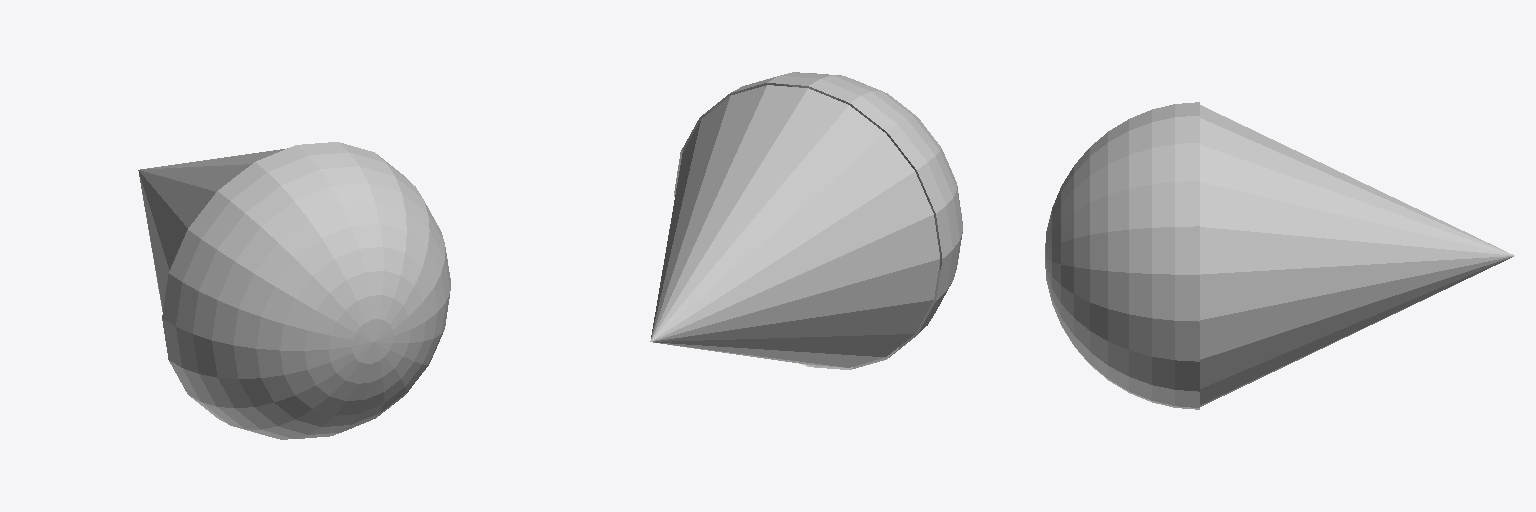
Rendered from thruster.obj.
3 renders of one model, left to right at view 1: azimuth 30°, elevation 25°; view 2: azimuth 150°, elevation 25°; view 3: azimuth 270°, elevation 25°, orthographic.
Parts seen in each view (by area): view 1: pCone2; view 2: pCone2; view 3: pCone2.
Boxes of the visible parts, x1=… form: pCone2: x1=138, y1=142, x2=450, y2=439; pCone2: x1=650, y1=72, x2=962, y2=369; pCone2: x1=1045, y1=102, x2=1514, y2=409.
Bounding box in the file's own units: 3.15 × 3.15 × 4.79.